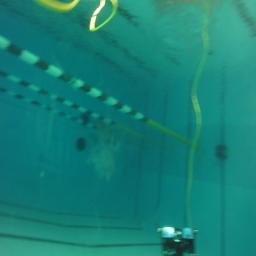Full: (216, 152, 226, 161)
front: (156, 228, 200, 255)
